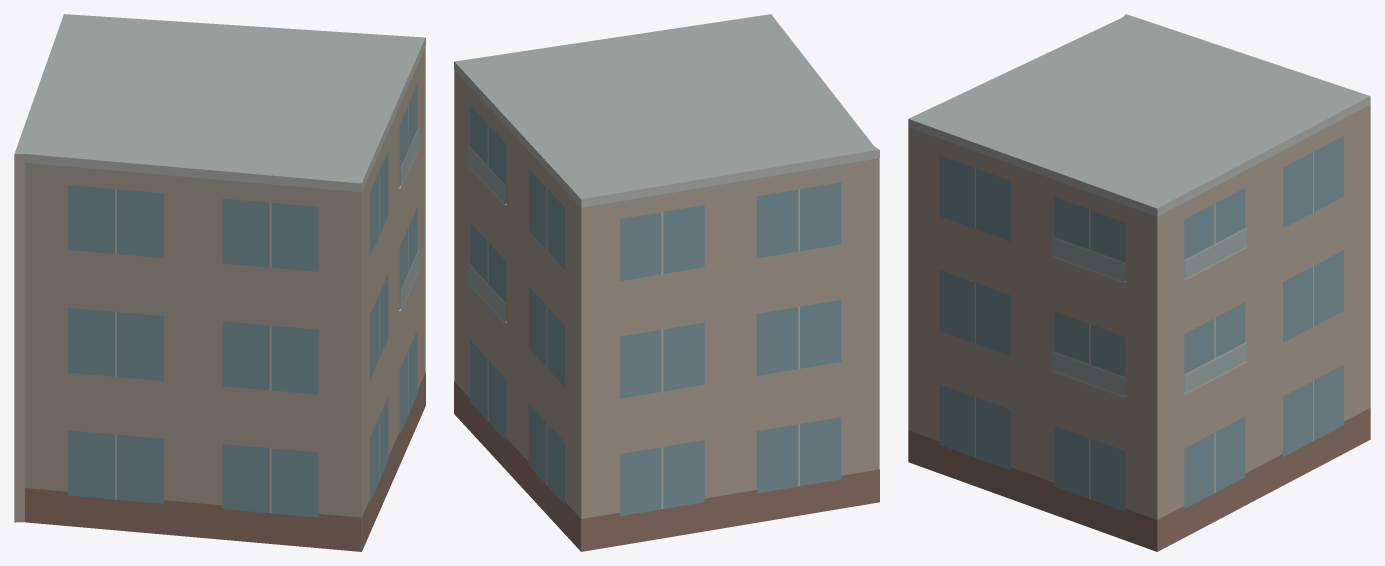
Rendered from survey-upis-32886996.glb.
3 views of the same model, side by side, from view 1: azimuth 30°, elevation 25°; view 2: azimuth 150°, elevation 25°; view 3: azimuth 270°, elevation 25° (orthographic). The views are drawn at different scales.
Visible parts, largest first — view 1: survey-upis-32886996.tmp; view 2: survey-upis-32886996.tmp; view 3: survey-upis-32886996.tmp.
Boxes of the visible parts, <box> form: survey-upis-32886996.tmp: <box>14,14,425,551</box>; survey-upis-32886996.tmp: <box>454,14,879,551</box>; survey-upis-32886996.tmp: <box>908,14,1370,551</box>.
Size of the model in its own units: 12.41 by 10.2 by 12.46.
